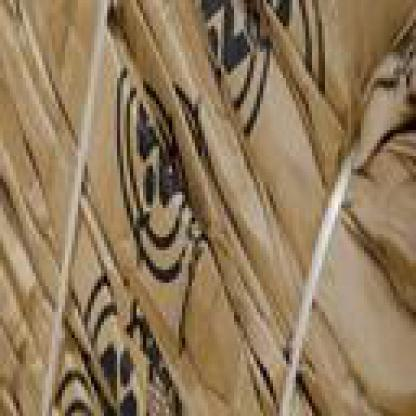CARDBOARD: (0, 0, 413, 413), (111, 0, 413, 413), (20, 0, 240, 413)
